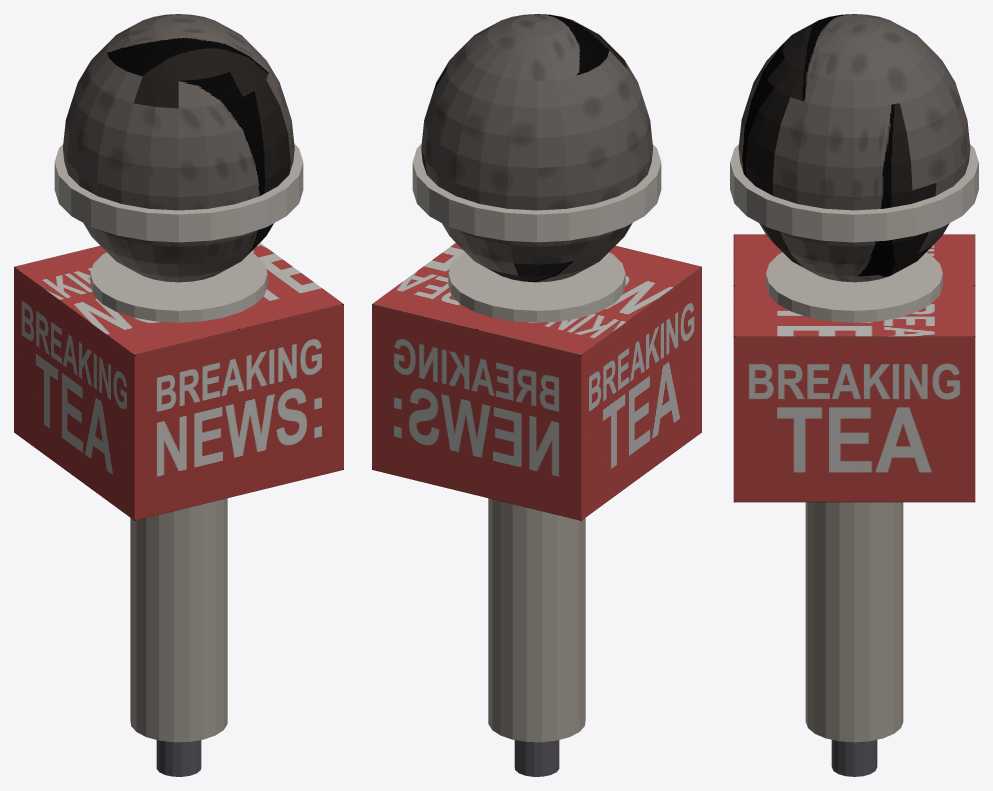
File: prop-mic.glb
3 views of the same model, side by side, from view 1: azimuth 30°, elevation 25°; view 2: azimuth 150°, elevation 25°; view 3: azimuth 270°, elevation 25° (orthographic).
Visible parts, largest first — view 1: breaking_tea_microphone; view 2: breaking_tea_microphone; view 3: breaking_tea_microphone.
Part boxes in pixels (left/top/right/bottom): breaking_tea_microphone: left=14, top=14, right=343, bottom=776; breaking_tea_microphone: left=372, top=14, right=701, bottom=776; breaking_tea_microphone: left=730, top=14, right=978, bottom=776.
Bounding box in the file's own units: 1.7 × 5.62 × 1.7.
Materials: 5 (2 with a texture image).
